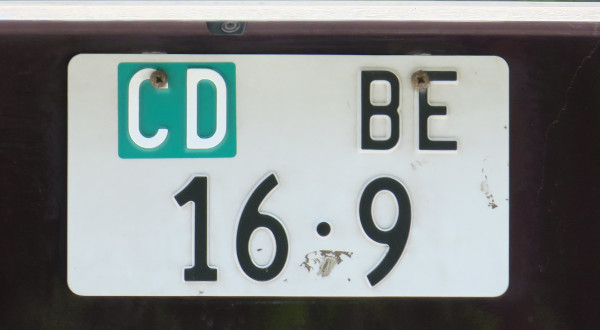license_plate: (65, 52, 510, 296)
